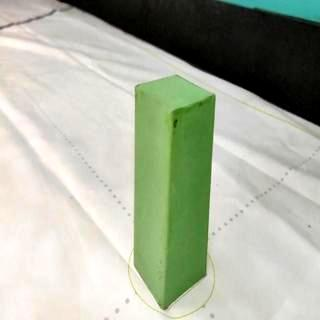greenbox: (132, 72, 218, 309)
